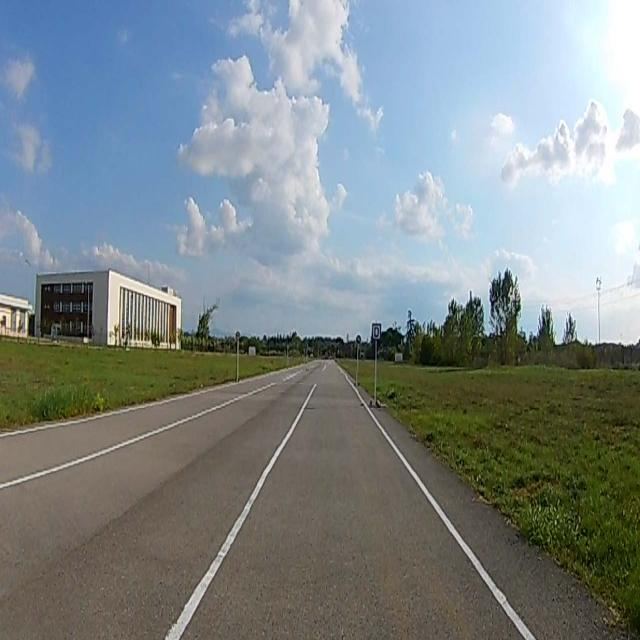durak: (372, 322, 381, 342)
